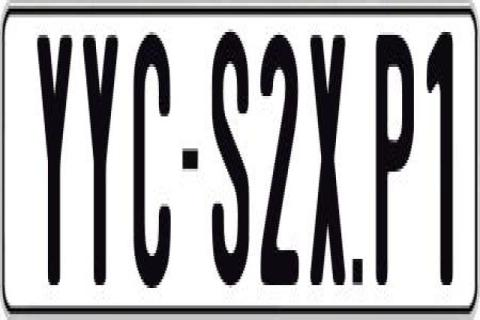0: (257, 32, 301, 285), (426, 23, 456, 280)
C: (130, 29, 172, 294)
P: (373, 32, 411, 296)
S: (212, 29, 250, 291)
X: (308, 29, 344, 291)
Y: (81, 27, 121, 286), (37, 26, 77, 276)
